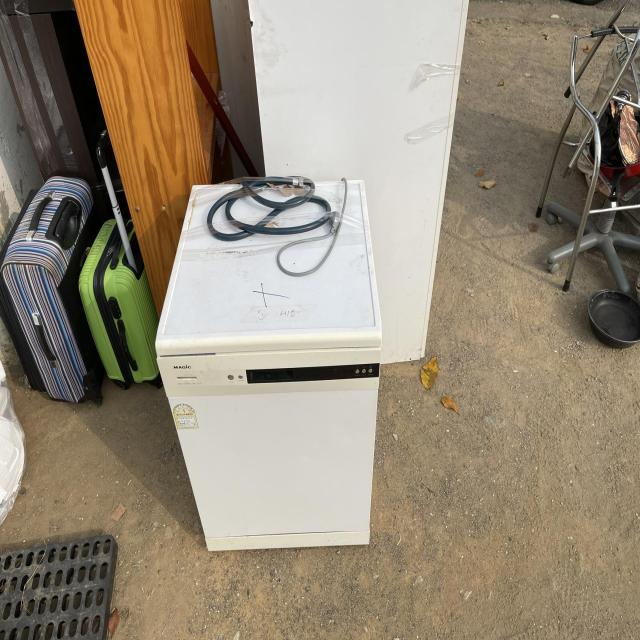refrigerator: (153, 176, 385, 554)
